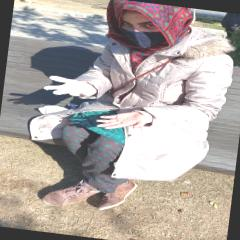gloved: (44, 75, 92, 98)
not-gloved: (94, 107, 144, 134)
